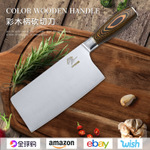knief: (28, 12, 135, 131)
